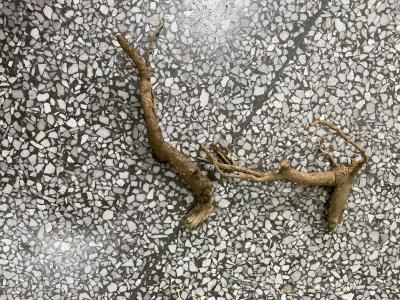Root: (116, 35, 215, 230), (197, 119, 368, 231)
